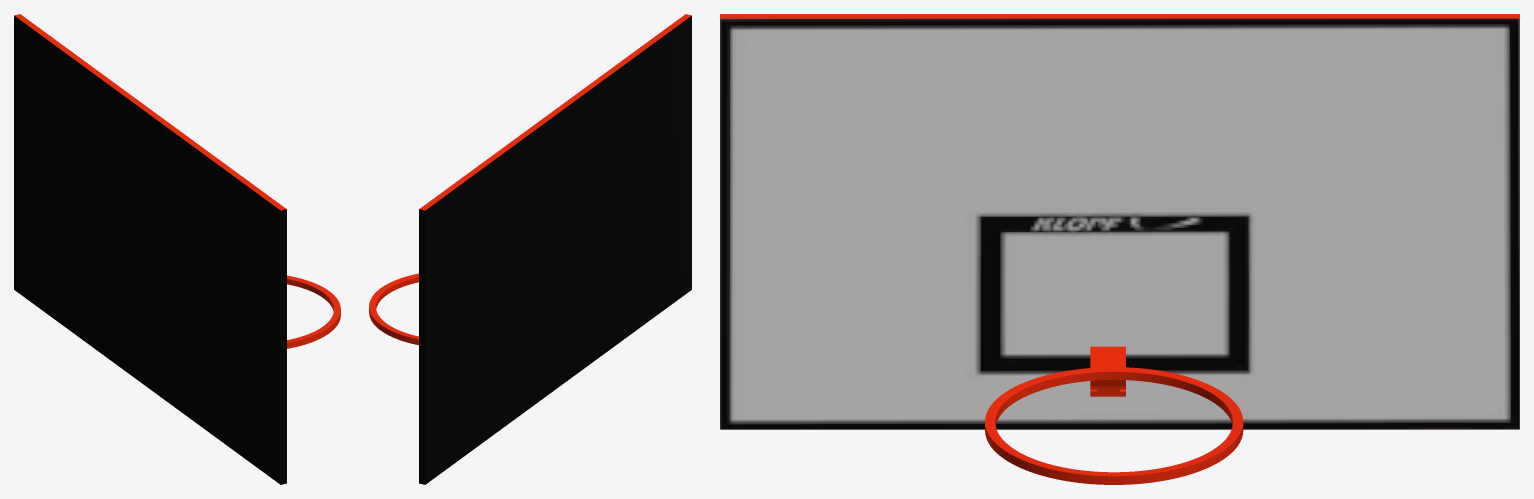
The model's file is hoop.glb.
3 renders of one model, left to right at view 1: azimuth 30°, elevation 25°; view 2: azimuth 150°, elevation 25°; view 3: azimuth 270°, elevation 25°, orthographic. The views are drawn at different scales.
Parts seen in each view (by area): view 1: Cube_Cube.000; view 2: Cube_Cube.000; view 3: Cube_Cube.000.
Boxes of the visible parts, x1,y1,x2,y2 form: Cube_Cube.000: (14,14,340,484); Cube_Cube.000: (369,14,691,484); Cube_Cube.000: (720,14,1519,484).
Bounding box in the file's own units: 195 × 285 × 502.
Materials: 1 (1 with a texture image).
